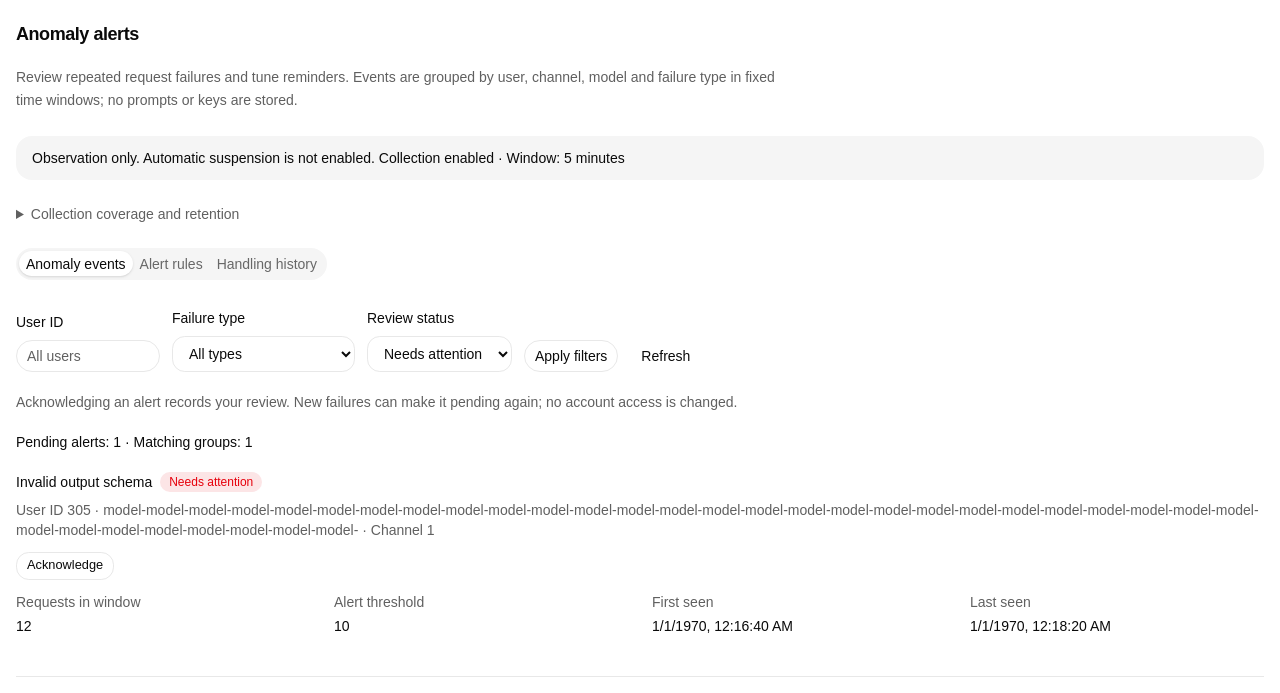
Test: acknowledgement conflict prompts refresh and does not claim success
Click the button "Acknowledge".
click(65, 566)  # box [16,552,114,580]
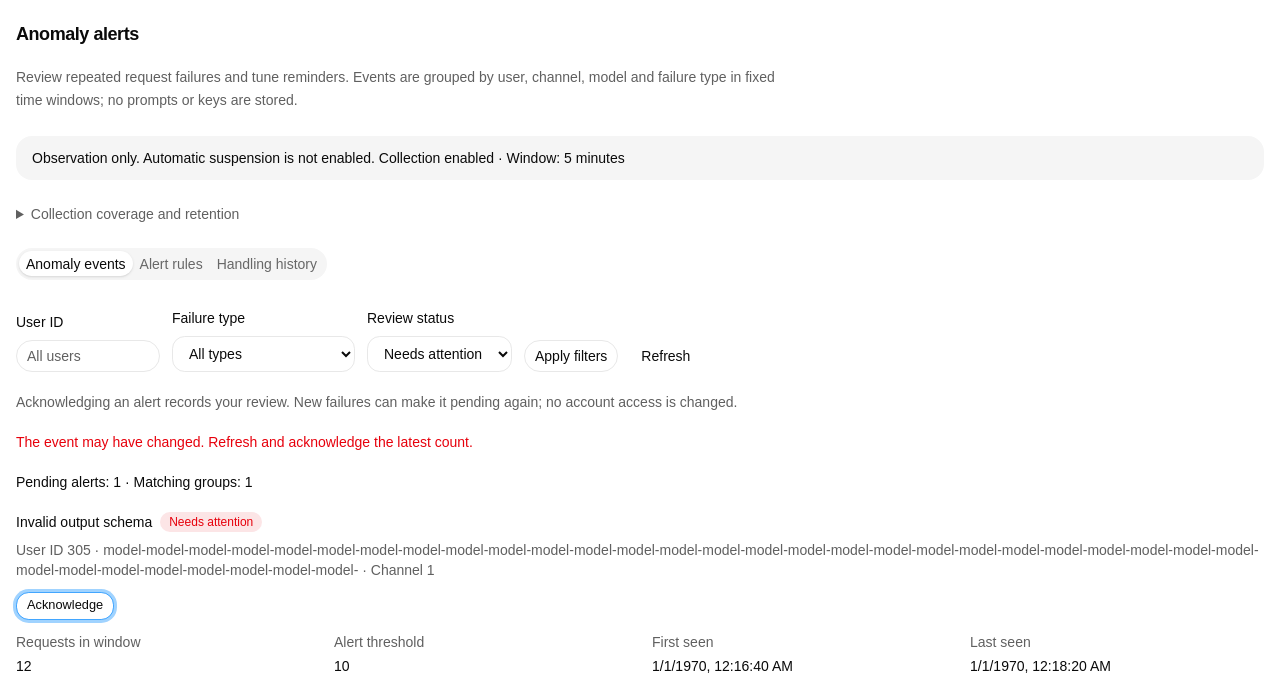
Result: the message "The event may have changed. Refresh and acknowledge the latest count." is shown at [16,434,473,450]
